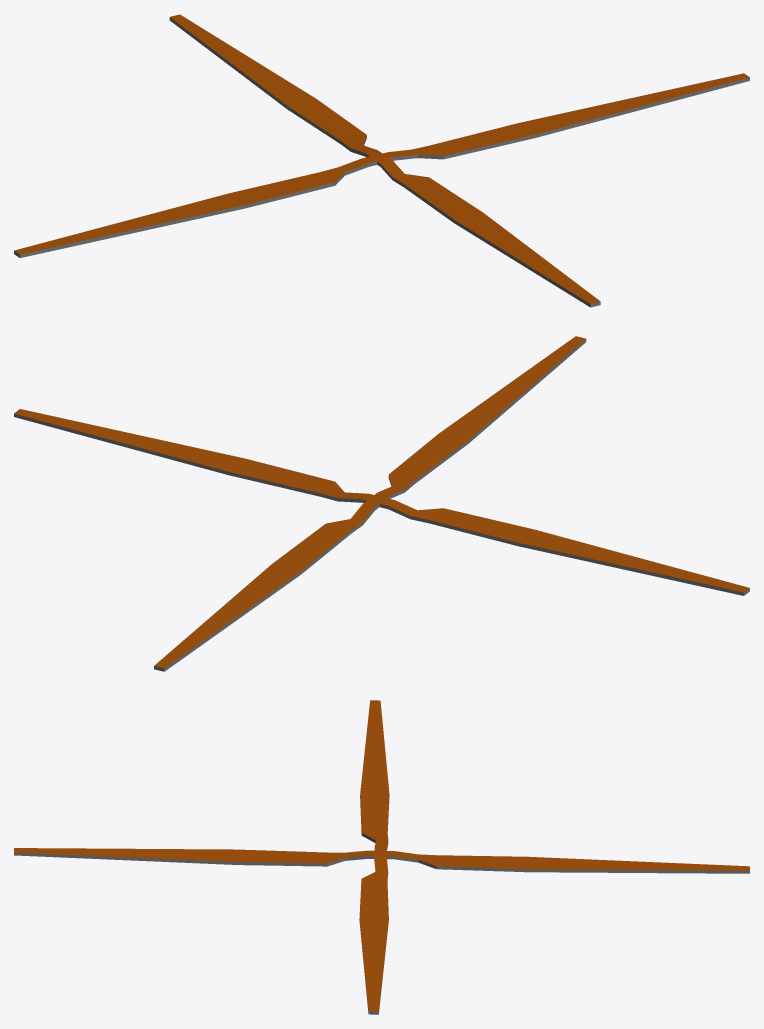
File: topPropellerDestroyed.fbx
The picture shows the model from 3 angles, top to bottom: view 1: azimuth 30°, elevation 25°; view 2: azimuth 150°, elevation 25°; view 3: azimuth 270°, elevation 25°; orthographic projection. The views are drawn at different scales.
Visible parts, largest first — view 1: polySurface155; view 2: polySurface155; view 3: polySurface155.
Part boxes in pixels (left/top/right/bottom): polySurface155: left=14, top=14, right=749, bottom=307; polySurface155: left=14, top=336, right=749, bottom=671; polySurface155: left=14, top=700, right=749, bottom=1014.
Bounding box in the file's own units: 15.97 × 0.5121 × 15.97.
